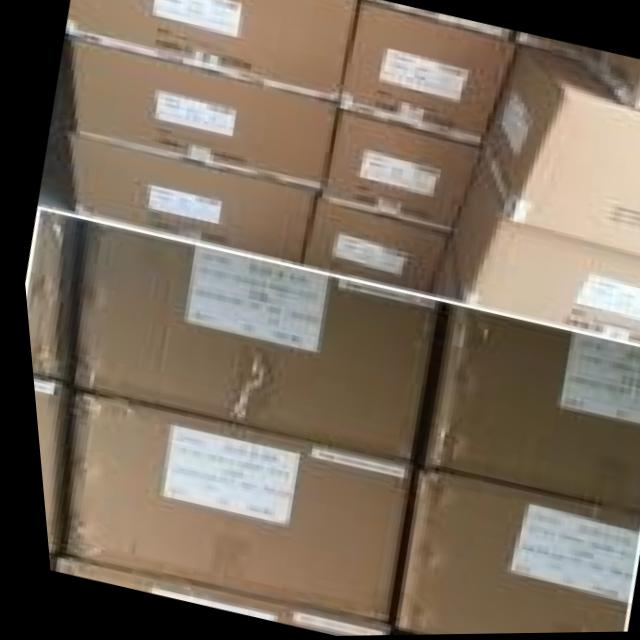box: (66, 219, 433, 463), (51, 389, 407, 626), (411, 304, 640, 515), (382, 471, 635, 636), (67, 37, 334, 189), (444, 159, 640, 350), (476, 47, 640, 260), (65, 134, 315, 263), (63, 0, 357, 102), (337, 2, 513, 147), (317, 112, 475, 233), (294, 200, 443, 294), (20, 209, 72, 384), (26, 378, 58, 557), (590, 50, 640, 109)
